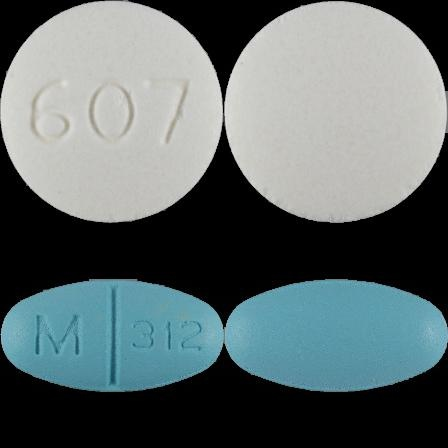60429-196: (0, 0, 224, 224)
